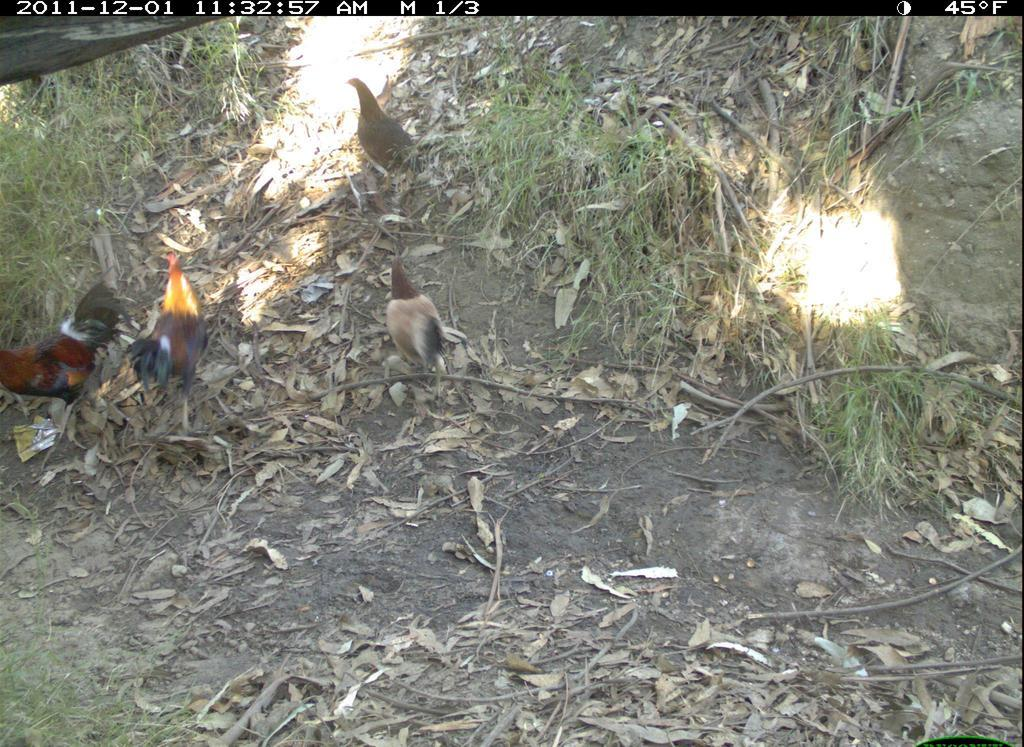bird: (1, 281, 125, 427), (125, 241, 230, 413), (337, 66, 433, 201), (379, 254, 461, 385)
